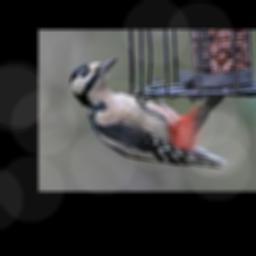Woodpecker: (69, 57, 227, 169)
